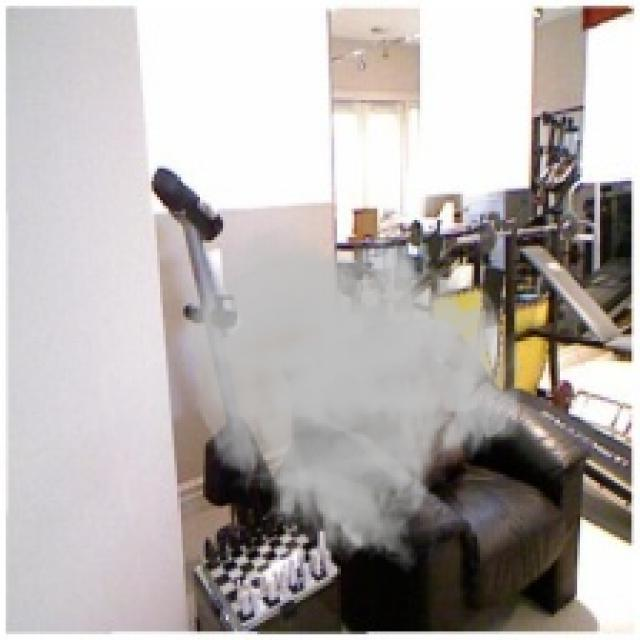Smoke: (177, 222, 526, 574)
